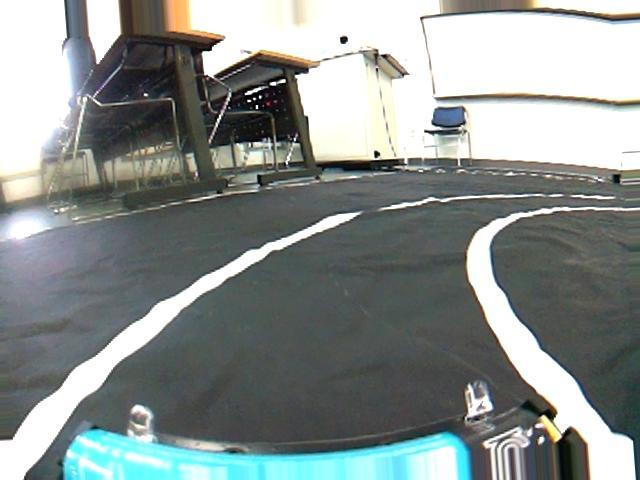straight: (3, 241, 640, 478)
